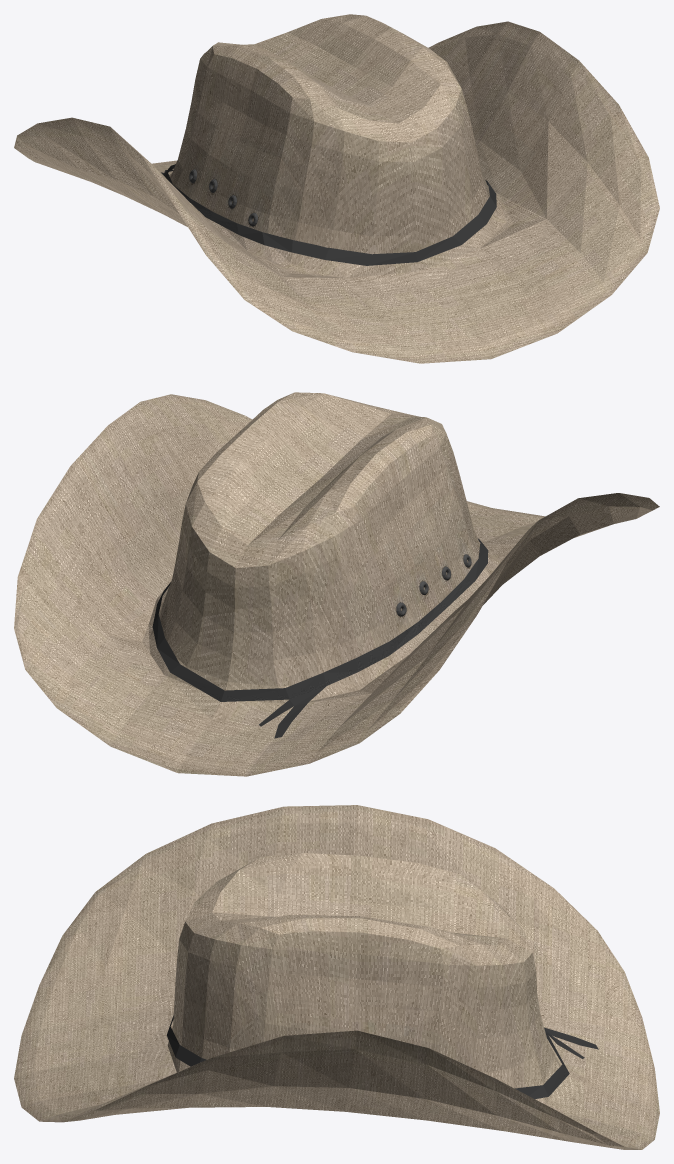
File: ewb_cowboyhat.glb
3 views of the same model, one above another, from view 1: azimuth 30°, elevation 25°; view 2: azimuth 150°, elevation 25°; view 3: azimuth 270°, elevation 25° (orthographic). The views are drawn at different scales.
Parts seen in each view (by area): view 1: ewb_cowboyhat; view 2: ewb_cowboyhat; view 3: ewb_cowboyhat.
Part boxes in pixels (<box>): ewb_cowboyhat: <box>14,14,659,363</box>; ewb_cowboyhat: <box>14,392,659,776</box>; ewb_cowboyhat: <box>14,805,659,1149</box>.
Bounding box in the file's own units: 0.351 × 0.1702 × 0.4286.
2 materials, 2 textured.
